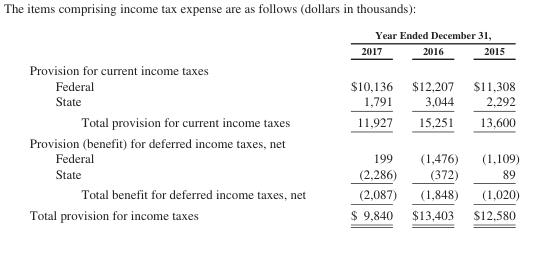table: (28, 28, 518, 221)
table column: (28, 28, 327, 221), (327, 28, 403, 221), (403, 28, 465, 221), (465, 28, 518, 221)
table column header: (28, 28, 518, 59)
table projected row header: (28, 59, 518, 77), (28, 132, 518, 150)
table row: (28, 111, 518, 132), (28, 183, 518, 204), (28, 59, 518, 77), (28, 93, 518, 111), (28, 132, 518, 150), (28, 165, 518, 183), (28, 42, 518, 59), (28, 204, 518, 221), (28, 77, 518, 93), (28, 150, 518, 165), (28, 28, 518, 42)
table spanning cell: (327, 28, 518, 42)
